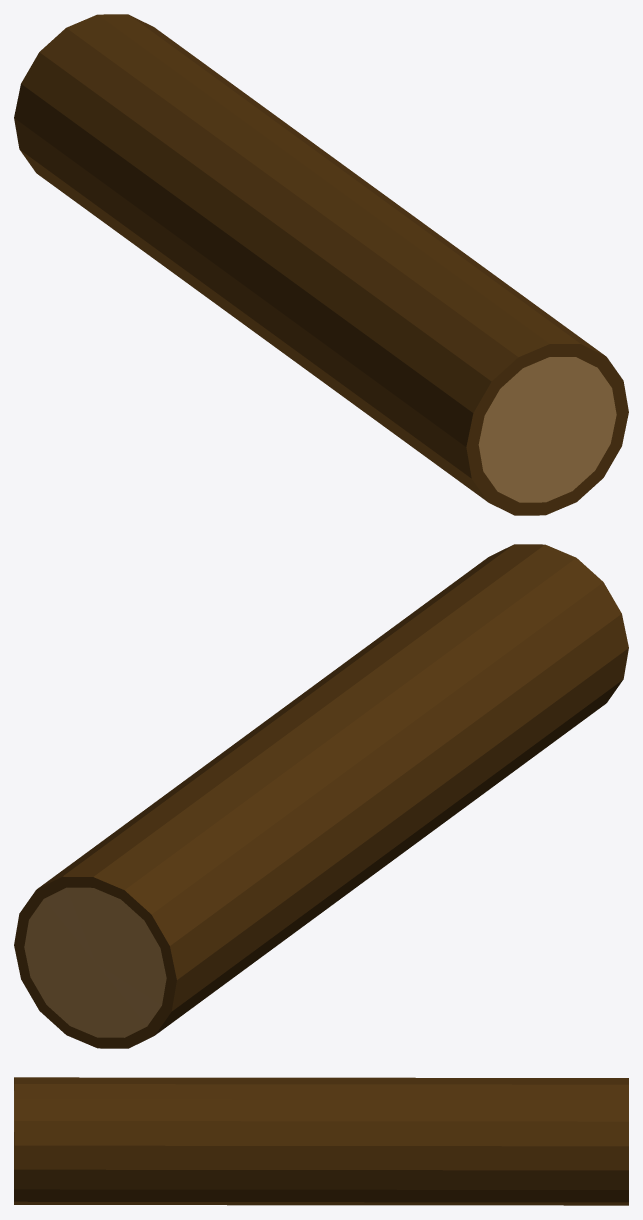
The model's file is odun.fbx.
The picture shows the model from 3 angles, top to bottom: view 1: azimuth 30°, elevation 25°; view 2: azimuth 150°, elevation 25°; view 3: azimuth 270°, elevation 25°; orthographic projection. The views are drawn at different scales.
Parts seen in each view (by area): view 1: Plane.012; view 2: Plane.012; view 3: Plane.012.
Part boxes in pixels (x1=…): Plane.012: x1=14, y1=14, x2=628, y2=515; Plane.012: x1=14, y1=544, x2=628, y2=1048; Plane.012: x1=14, y1=1077, x2=628, y2=1205.
Bounding box in the file's own units: 62.73 × 62.95 × 301.
